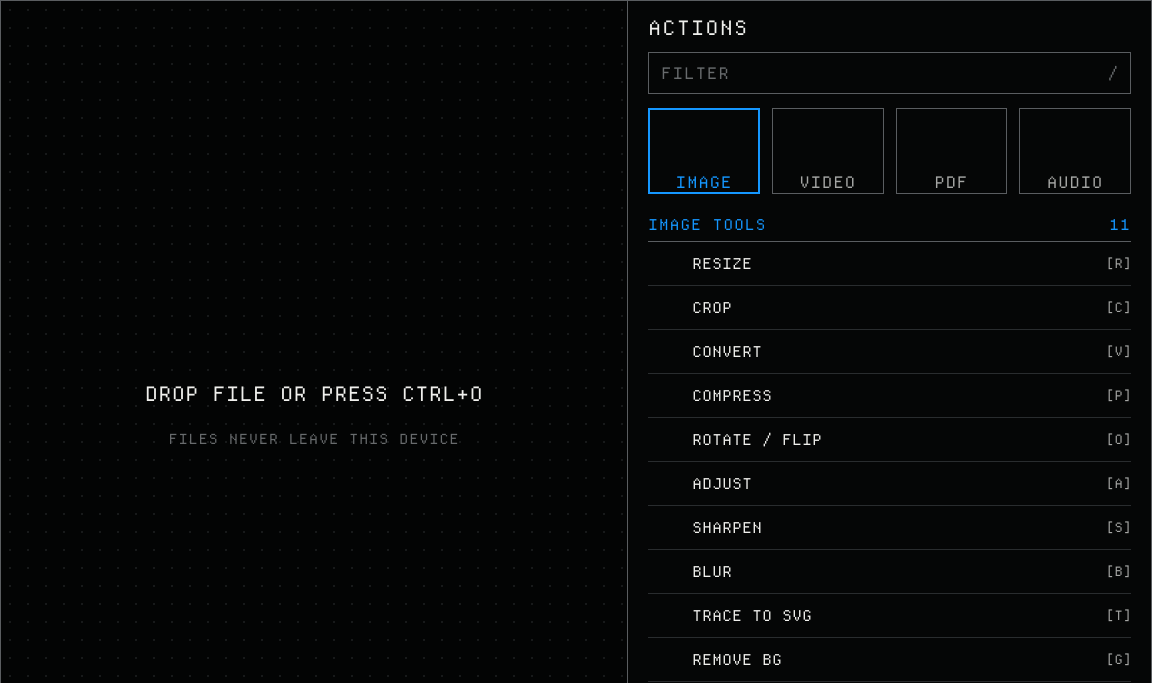
Test case: Home › disambiguates search results and supports keyboard launch
This screenshot has width=1152, height=683.
Type "compress" into the dropdown named "Find a tool" at point(885, 73), box [661,62,1108,84]
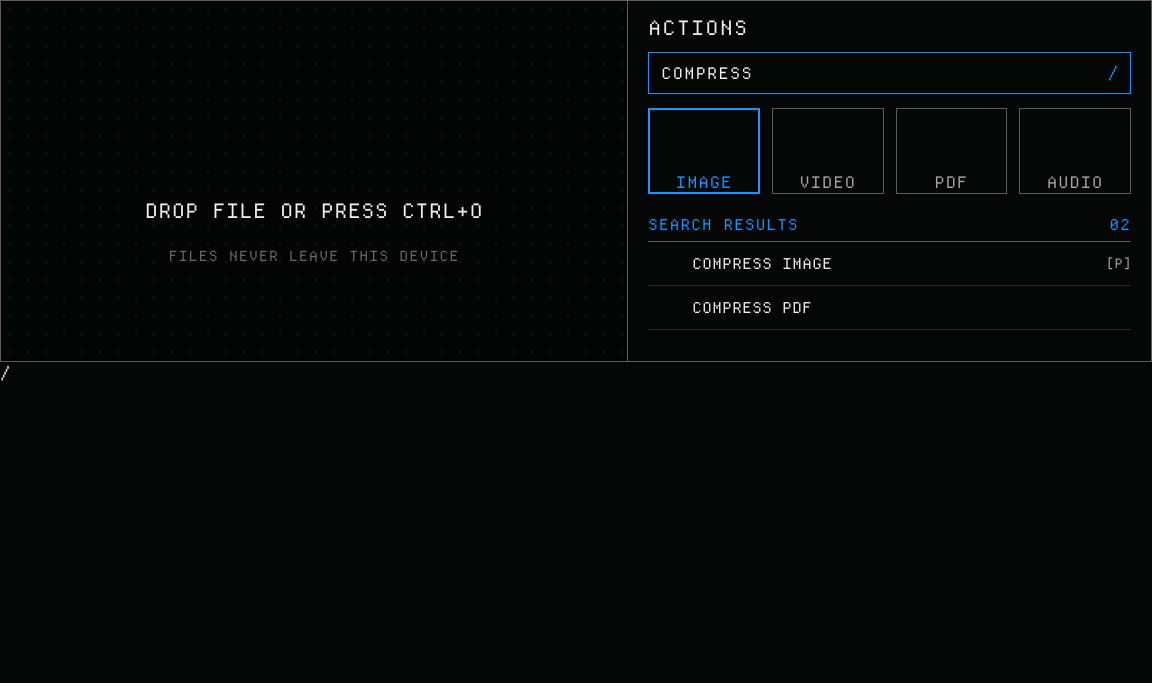
expect the option "Compress Image [P]" is shown: met, box [648,242,1131,286]
expect the option "Compress PDF" is shown: met, box [648,286,1131,330]
Press Arrowdown Enter
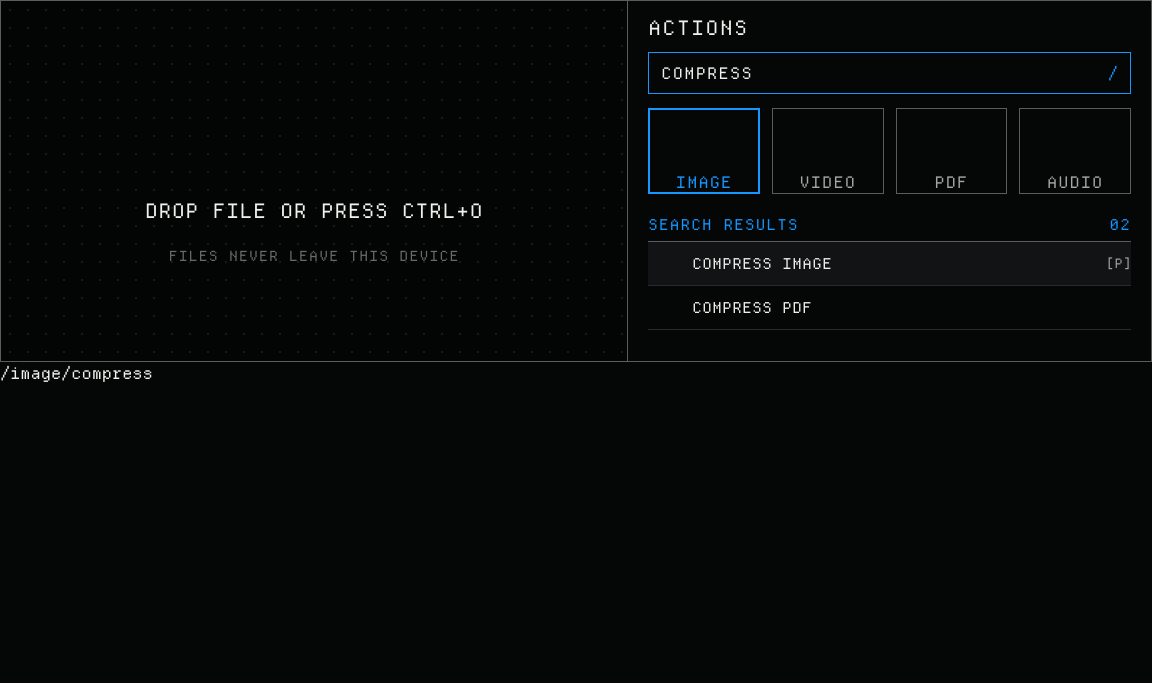
expect the text with test id "location" reads "/image/compress": met, box [0,363,153,383]
